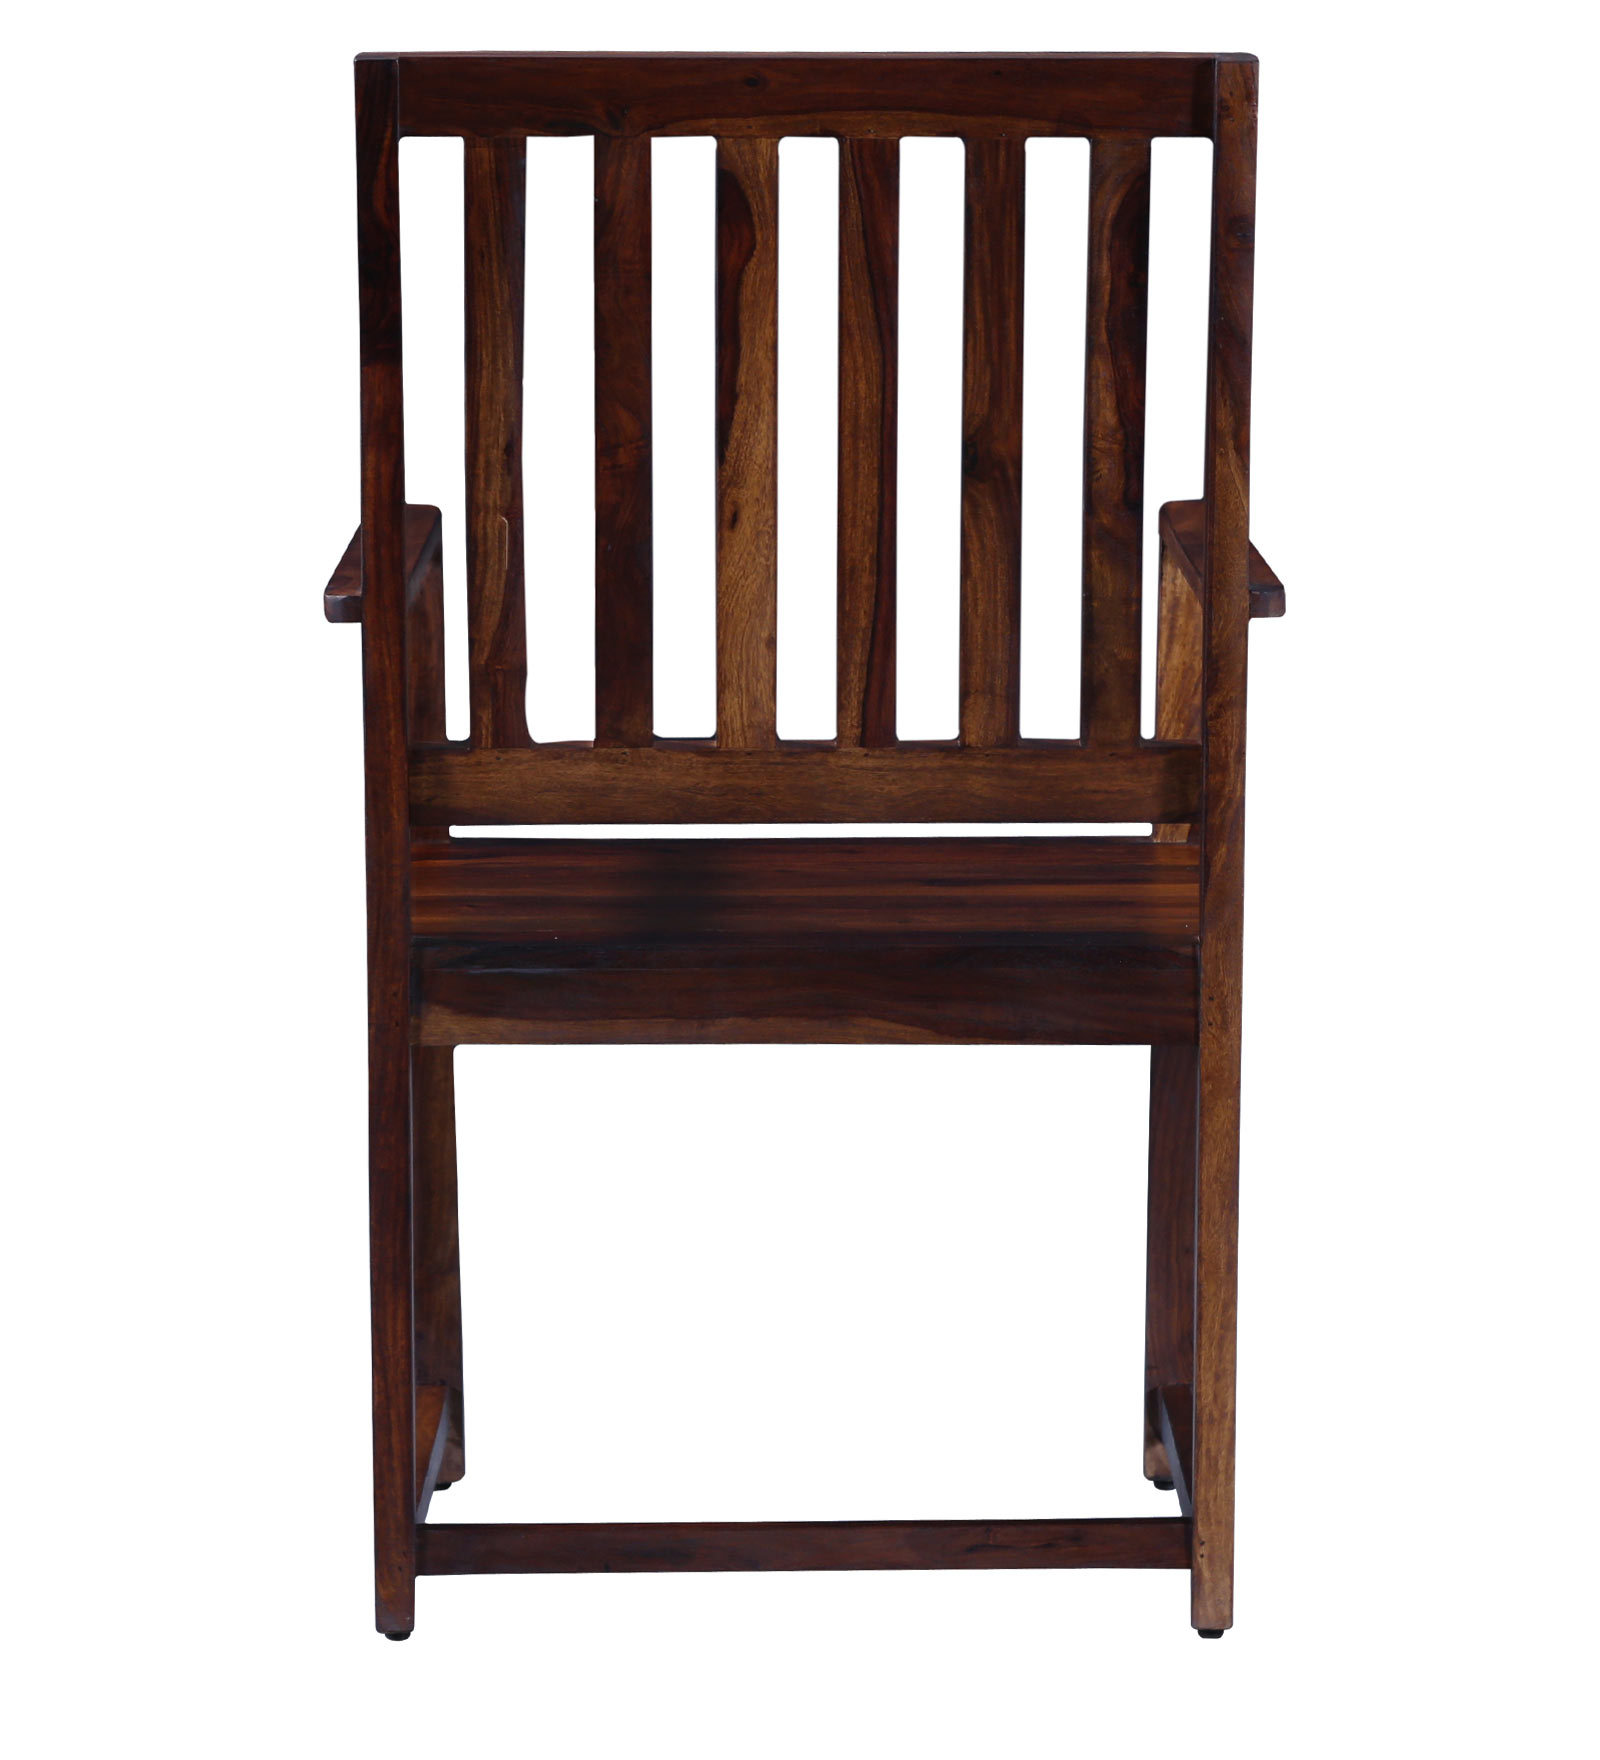Abbey Arm Chair in Honey Oak Finish by Woodsworth: (300, 26, 1320, 1677)
